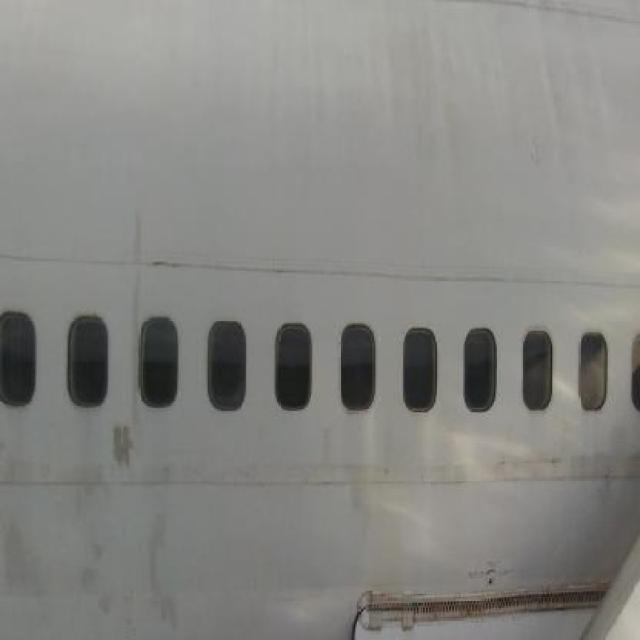Scartch: (107, 414, 144, 486)
